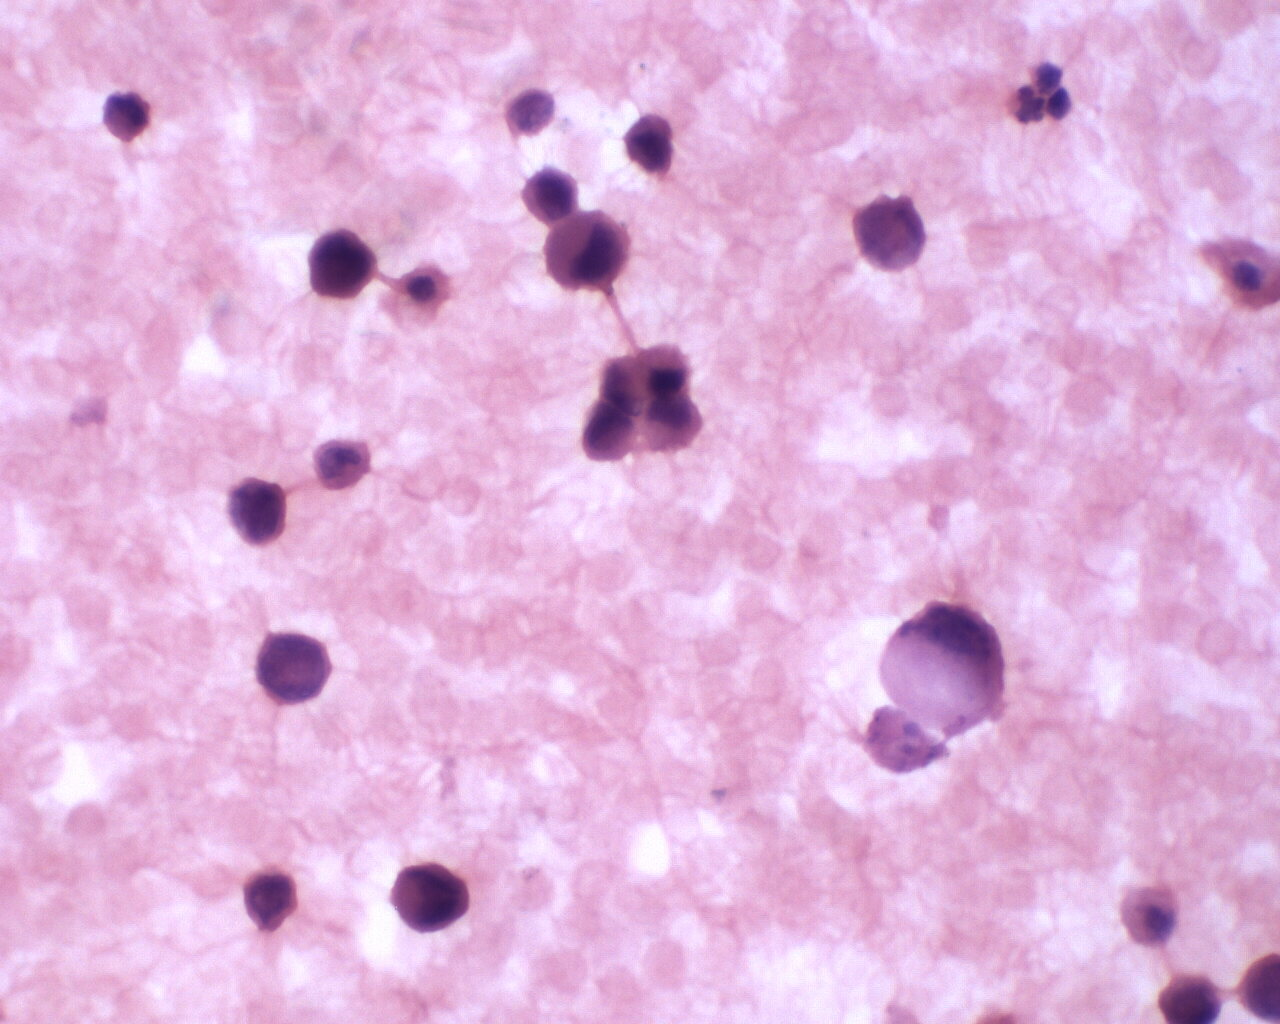ab: (250, 623, 338, 711), (846, 191, 933, 271), (383, 855, 468, 933), (302, 226, 379, 306), (227, 476, 297, 550), (242, 867, 300, 933), (520, 162, 582, 223)
histo: (878, 601, 1006, 737)
